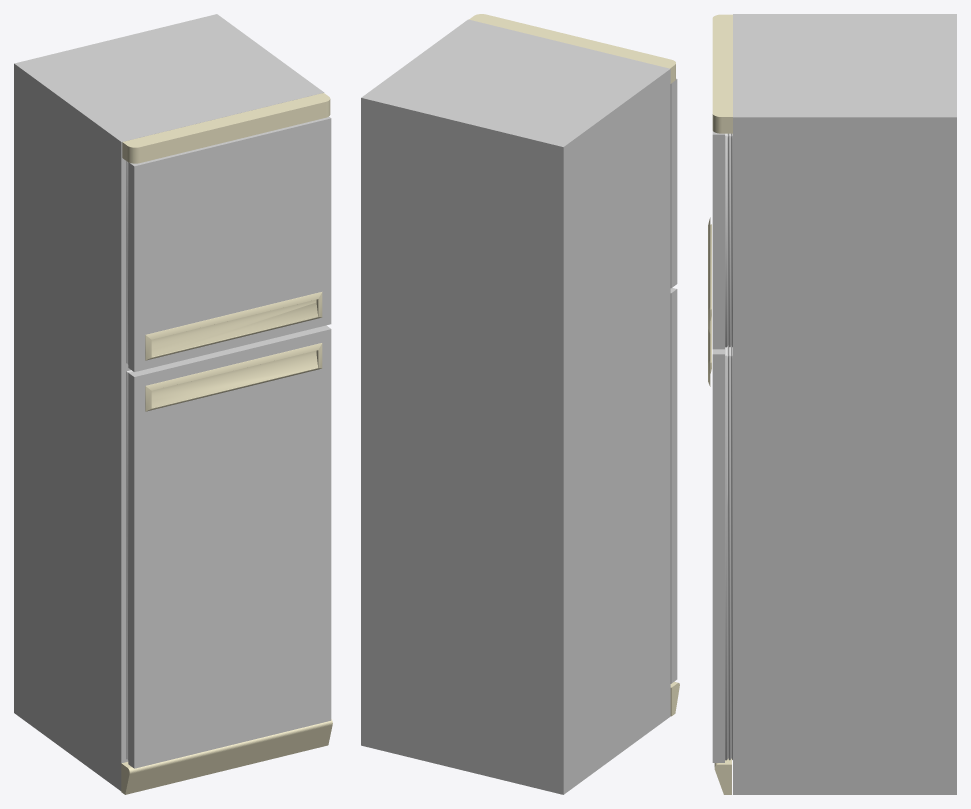
The model's file is Stinol.FBX.
3 renders of one model, left to right at view 1: azimuth 30°, elevation 25°; view 2: azimuth 150°, elevation 25°; view 3: azimuth 270°, elevation 25°, orthographic. The views are drawn at different scales.
Visible parts, largest first — view 1: Куб, Куб.001, Куб.002, Куб.003, Куб.004, Handle_Freezer, Handle_Refrigerator, Elastic_Doors; view 2: Куб, Куб.001, Куб.003, Куб.002; view 3: Куб, Куб.001, Elastic_Doors, Куб.002, Куб.003, Куб.004.
Boxes of the visible parts, left/top/right/bottom form: Куб: left=14, top=14, right=324, bottom=790; Куб.001: left=128, top=325, right=331, bottom=768; Куб.002: left=128, top=116, right=331, bottom=371; Куб.003: left=122, top=93, right=330, bottom=163; Куб.004: left=121, top=719, right=332, bottom=794; Handle_Freezer: left=145, top=292, right=322, bottom=360; Handle_Refrigerator: left=145, top=343, right=322, bottom=411; Elastic_Doors: left=126, top=161, right=132, bottom=759; Куб: left=361, top=19, right=670, bottom=794; Куб.001: left=670, top=288, right=677, bottom=683; Куб.003: left=469, top=14, right=675, bottom=83; Куб.002: left=670, top=78, right=677, bottom=288; Куб: left=733, top=14, right=956, bottom=794; Куб.001: left=712, top=349, right=724, bottom=762; Elastic_Doors: left=725, top=133, right=732, bottom=760; Куб.002: left=712, top=131, right=724, bottom=349; Куб.003: left=712, top=14, right=732, bottom=133; Куб.004: left=714, top=758, right=731, bottom=794.
Bounding box in the file's own units: 60.38 × 184 × 61.24.
